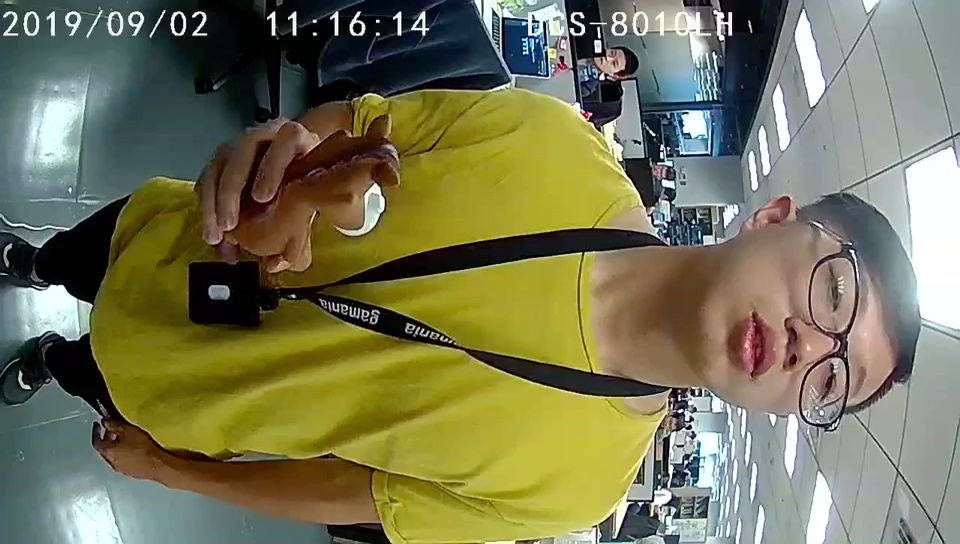horse: (290, 117, 402, 265)
